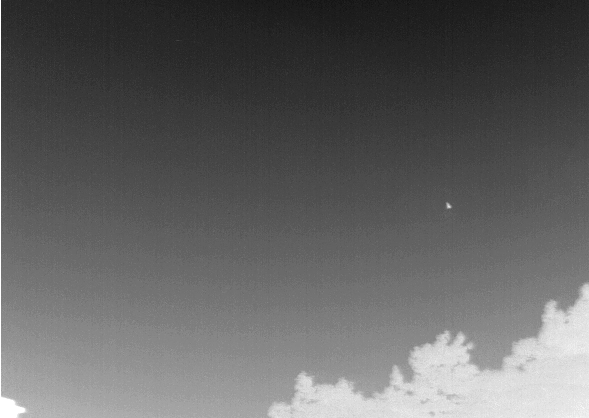dim target: (444, 200, 452, 210)
